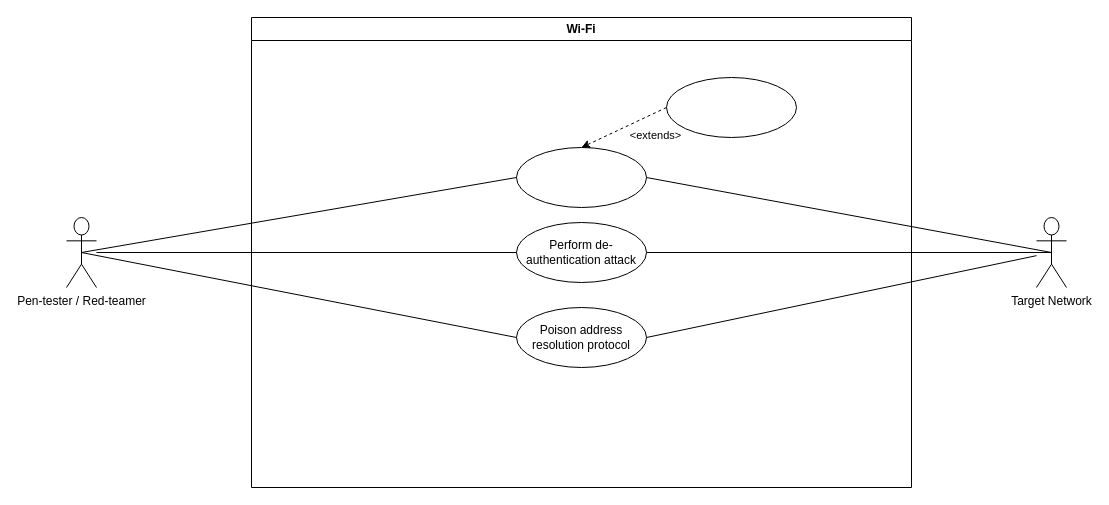
Image size: 1109x505. Some labels were removed from this diagram. The centre of each missing label's shape, as x and y in pixels:
"Capture Data" belongs at (x=581, y=177).
"CRUD Log" belongs at (x=731, y=107).
